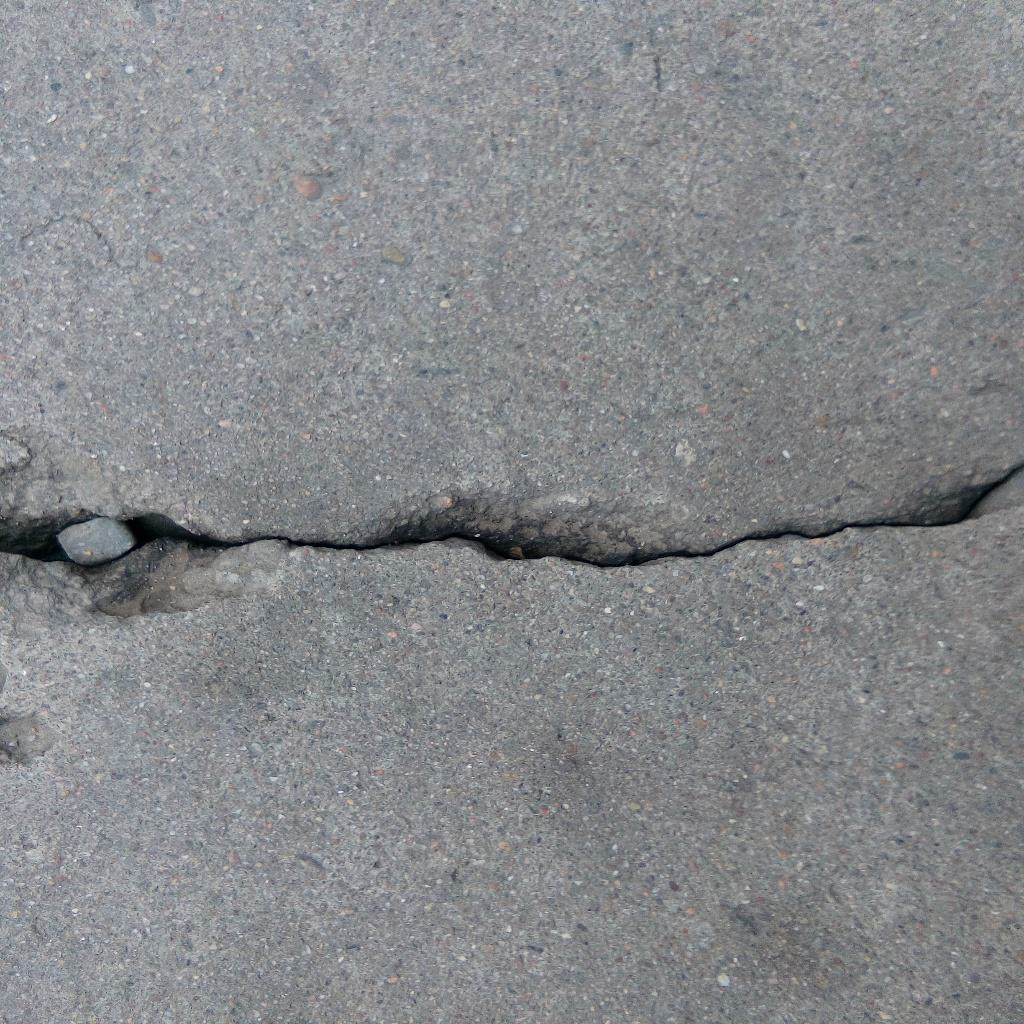Crack: (1, 461, 1024, 619)
Spalling: (1, 711, 63, 767)
